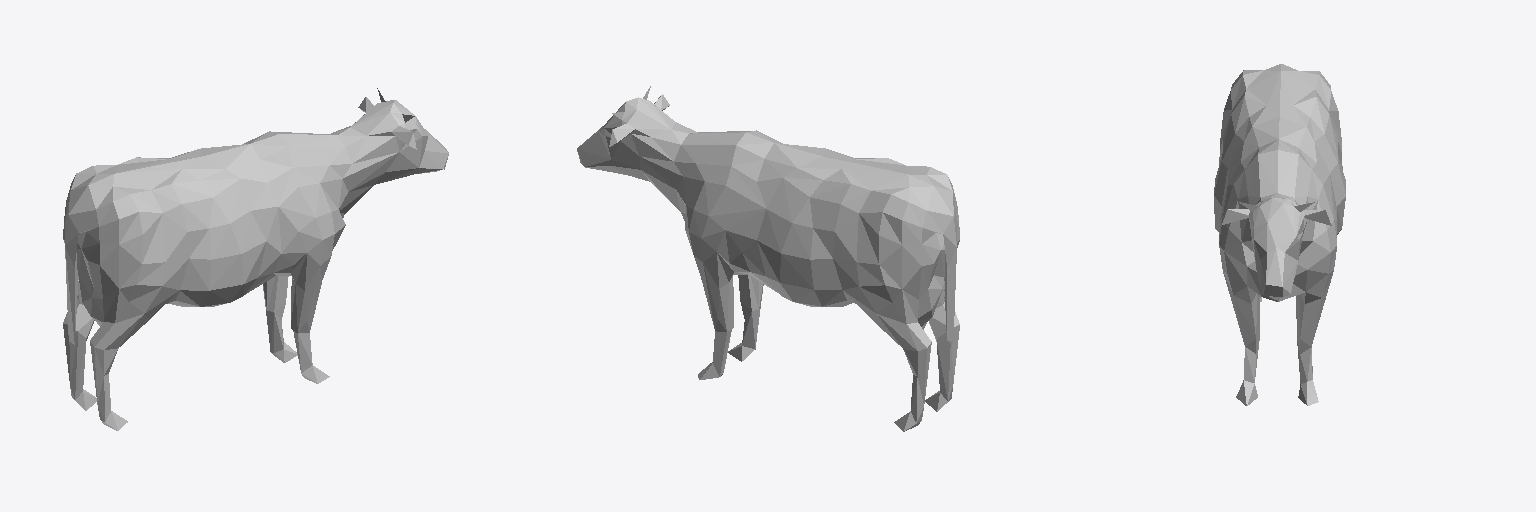
The model's file is cow.obj.
3 renders of one model, left to right at view 1: azimuth 30°, elevation 25°; view 2: azimuth 150°, elevation 25°; view 3: azimuth 270°, elevation 25°, orthographic.
Parts seen in each view (by area): view 1: cow; view 2: cow; view 3: cow.
Part boxes in pixels (left/top/right/bottom): cow: left=63, top=88, right=448, bottom=430; cow: left=577, top=86, right=959, bottom=431; cow: left=1214, top=64, right=1345, bottom=405.
Bounding box in the file's own units: 5.82 × 3.61 × 1.75.